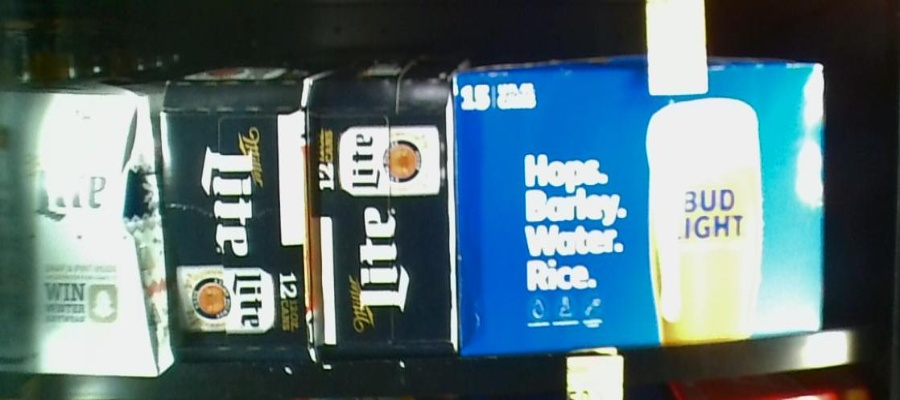bottle: (453, 63, 831, 346), (1, 89, 165, 366), (306, 74, 454, 360), (163, 79, 306, 358)
